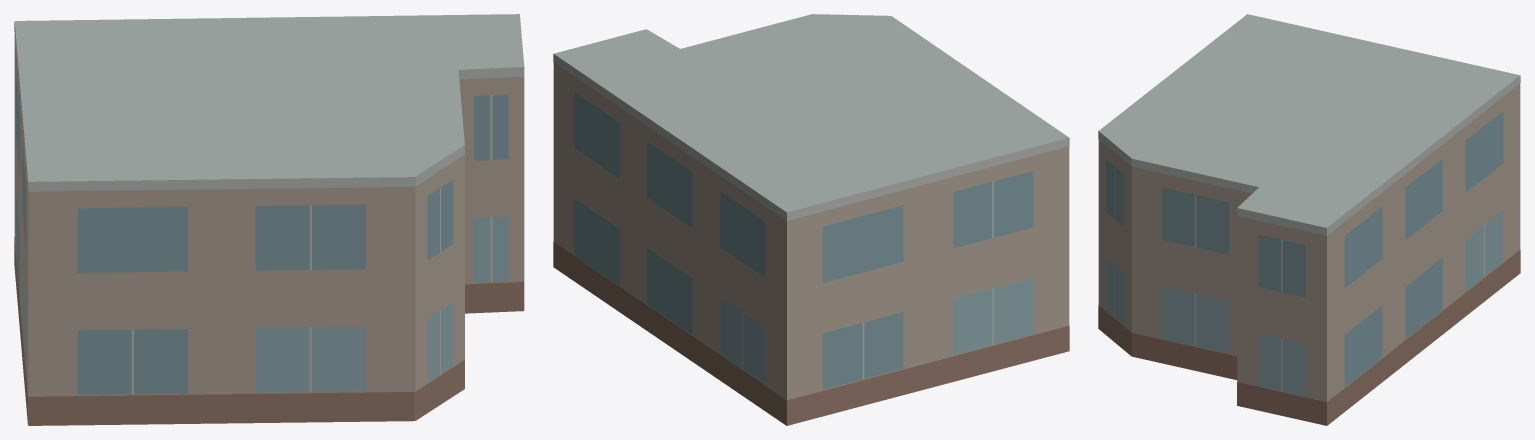
Rendered from survey-upis-32718302.glb.
3 renders of one model, left to right at view 1: azimuth 30°, elevation 25°; view 2: azimuth 150°, elevation 25°; view 3: azimuth 270°, elevation 25°, orthographic. The views are drawn at different scales.
Parts seen in each view (by area): view 1: survey-upis-32718302.tmp; view 2: survey-upis-32718302.tmp; view 3: survey-upis-32718302.tmp.
Part boxes in pixels (left/top/right/bottom): survey-upis-32718302.tmp: left=14, top=14, right=524, bottom=425; survey-upis-32718302.tmp: left=553, top=14, right=1069, bottom=425; survey-upis-32718302.tmp: left=1098, top=14, right=1520, bottom=425.
Size of the model in its own units: 14.16 by 6.1 by 11.8.
